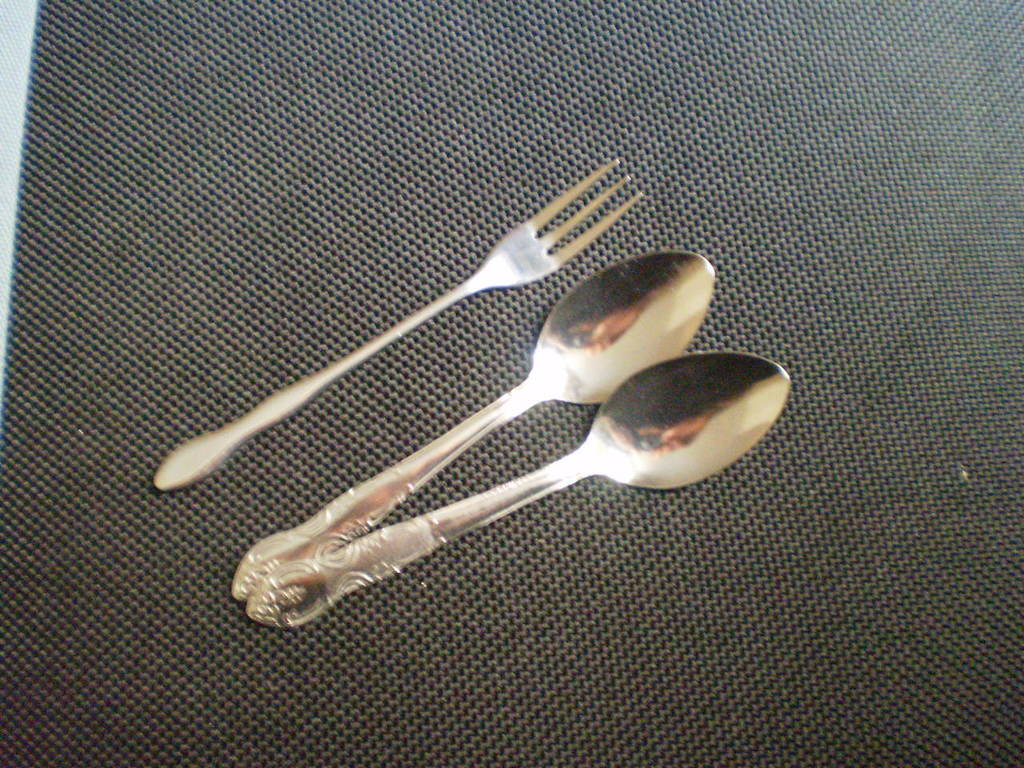fork: (154, 159, 644, 492)
